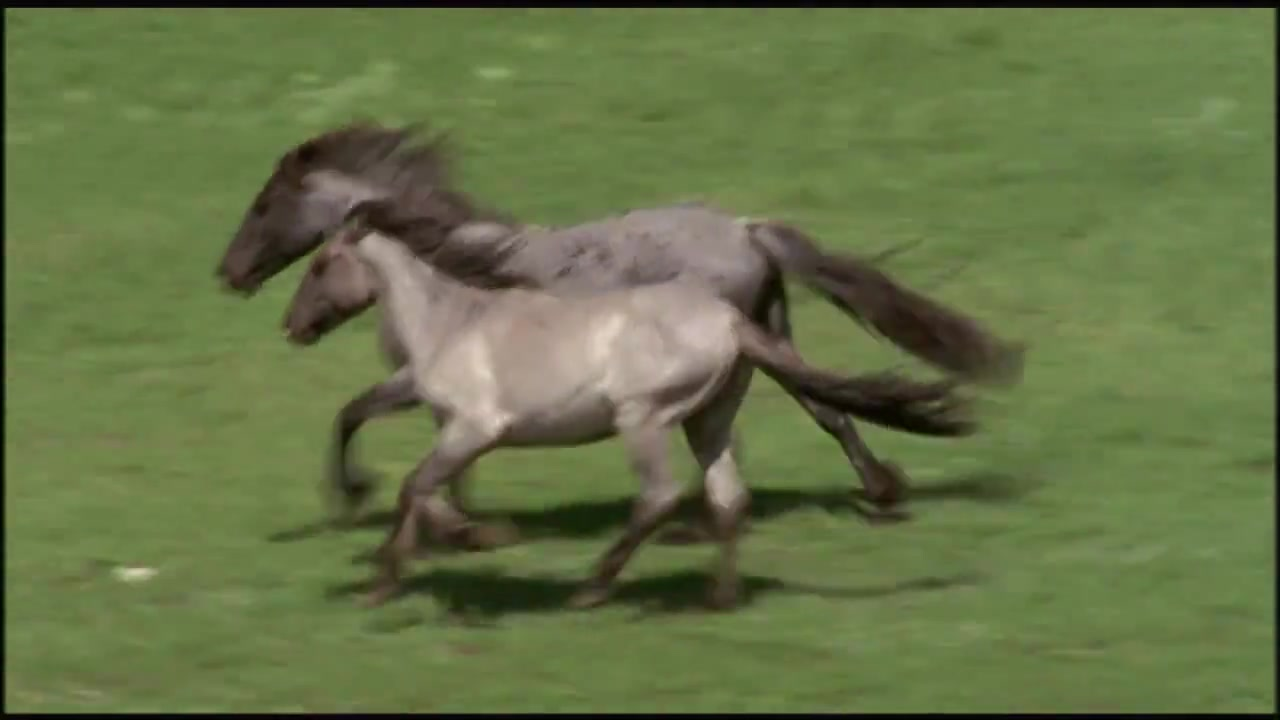horse: (279, 198, 982, 616)
